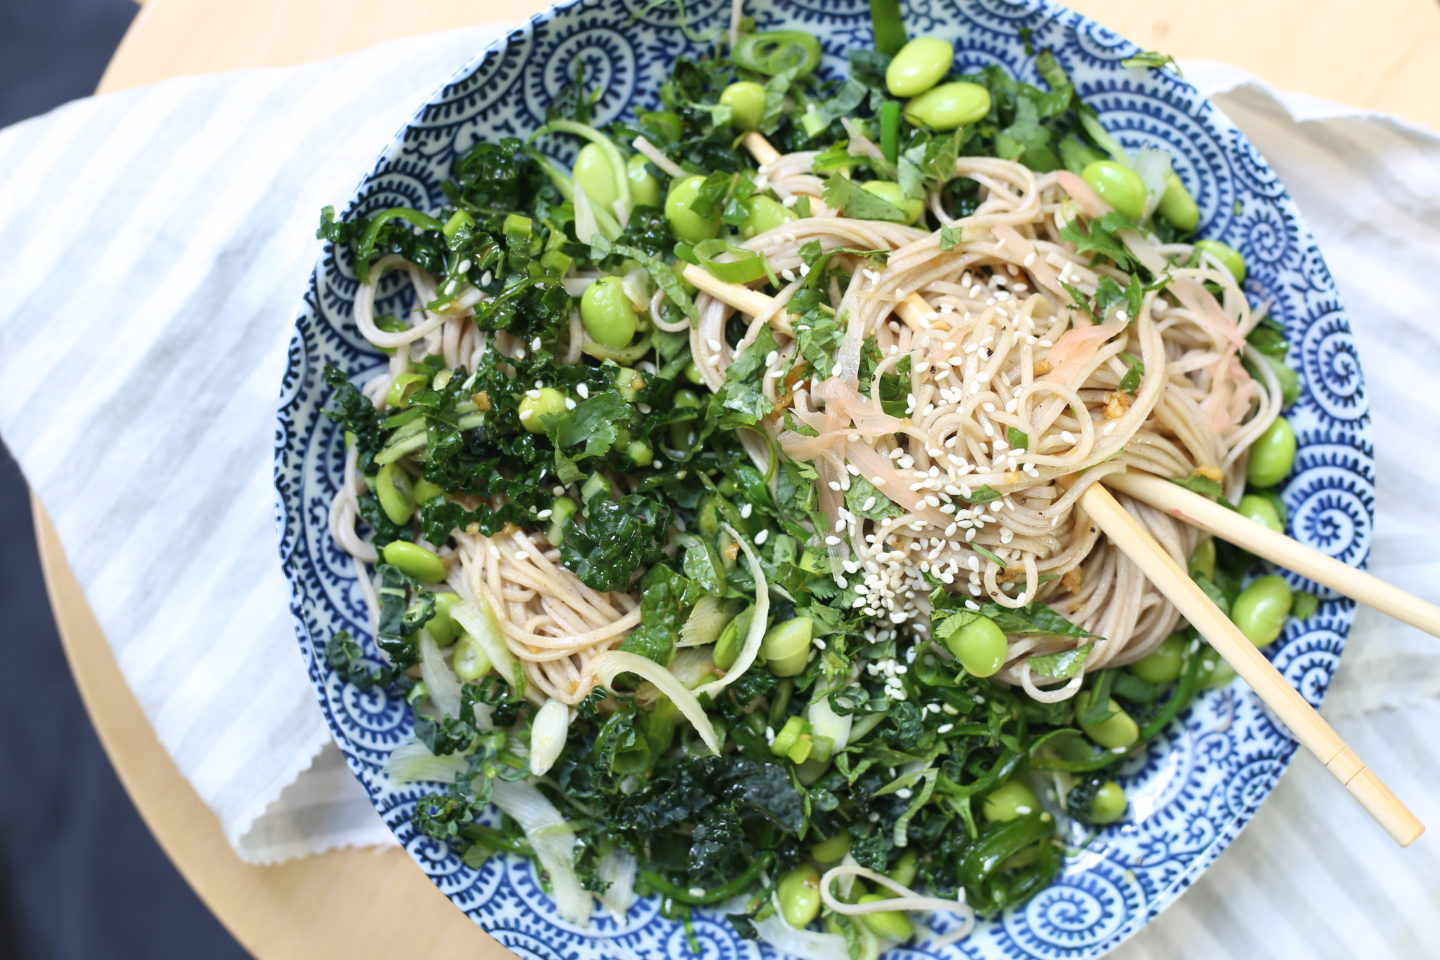Soba: (731, 132, 1246, 696)
